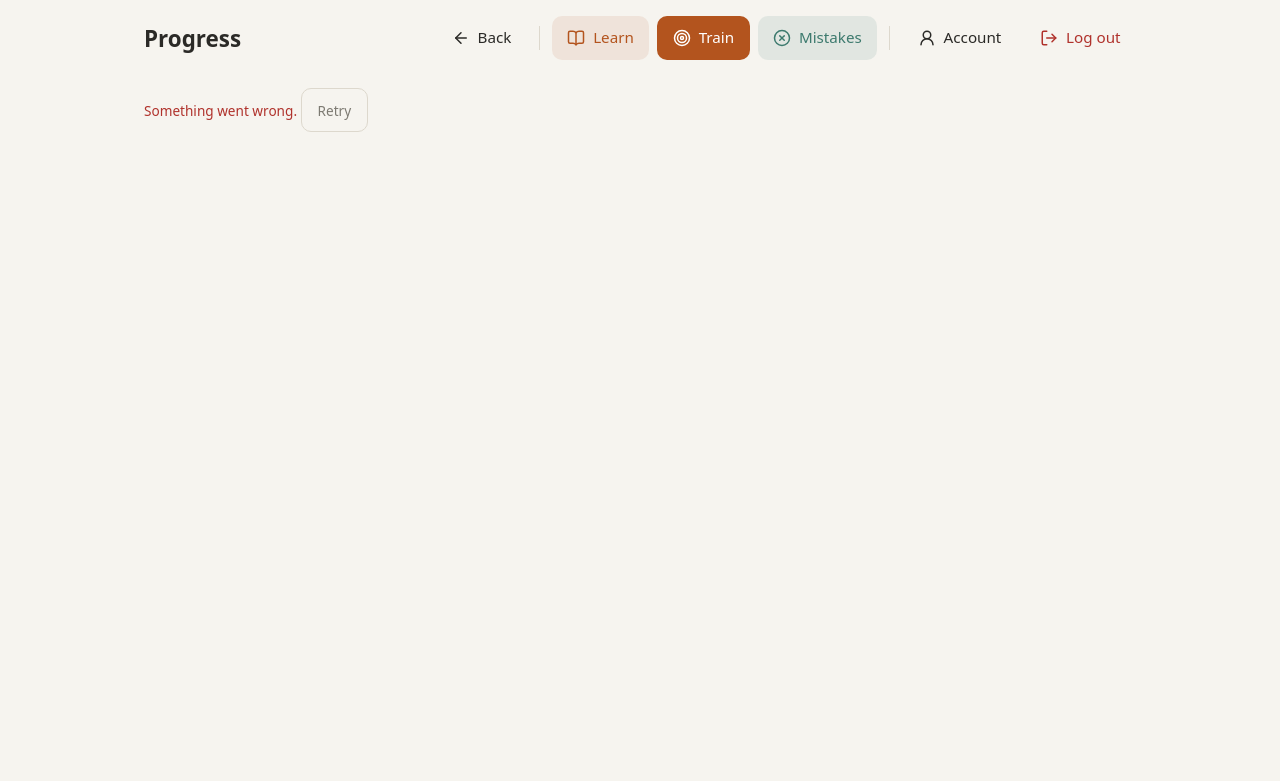
ProgressPage › offers a retry when loading fails
Expected: the message shows "Something went wrong.", [144,100,297,120]
Step 1. Click the button "Retry" → [334, 110], box [301,88,368,132]
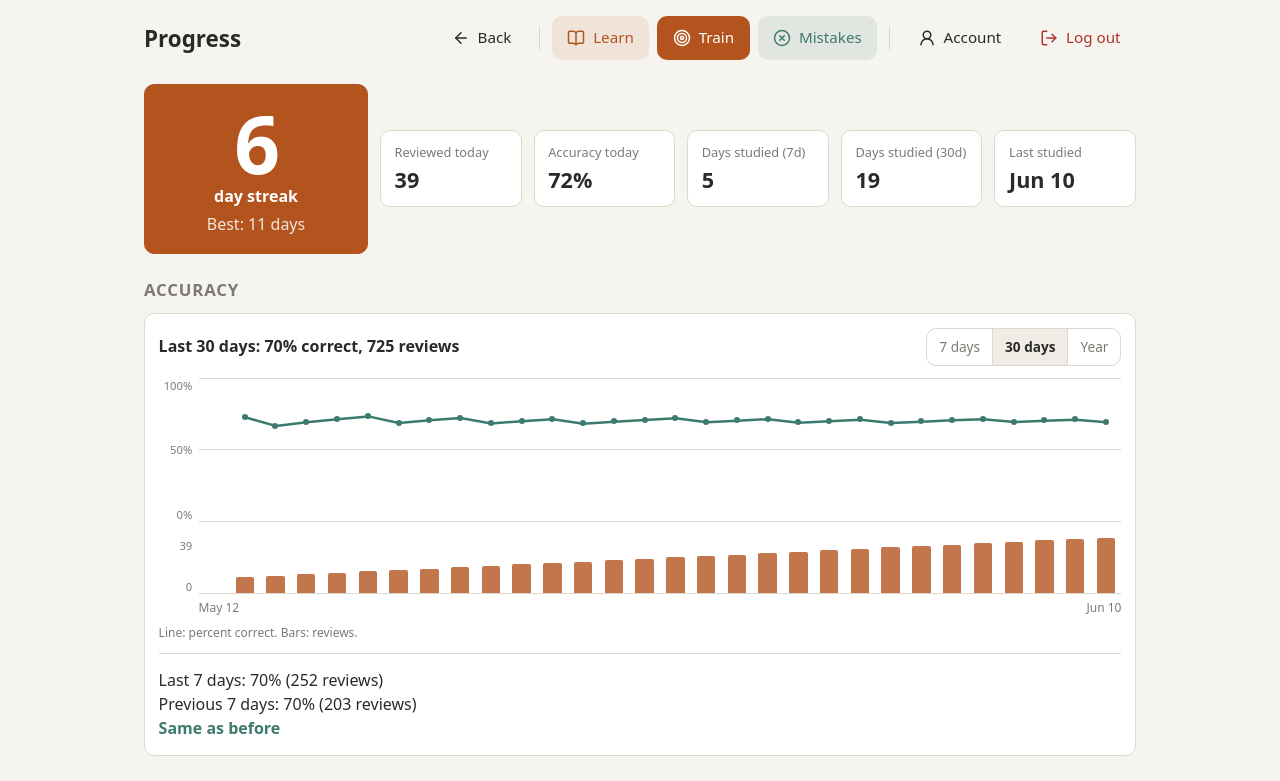
Expected: the element named "Activity" is shown, [144,84,1136,254]
